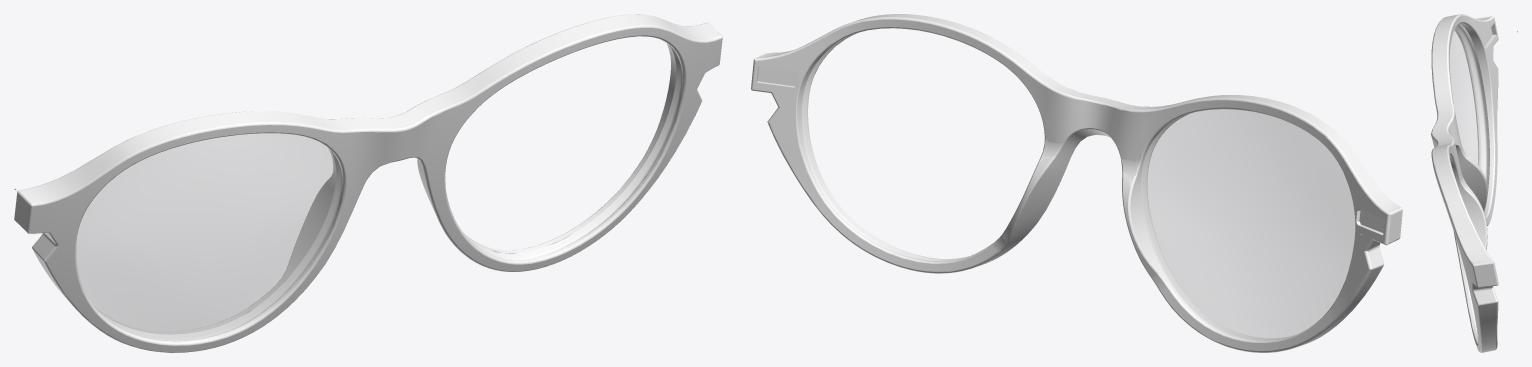
3 renders of one model, left to right at view 1: azimuth 30°, elevation 25°; view 2: azimuth 150°, elevation 25°; view 3: azimuth 270°, elevation 25°, orthographic. The views are drawn at different scales.
Visible parts, largest first — view 1: FRONTALE, LENTE_DX; view 2: LENTE_DX, FRONTALE; view 3: FRONTALE, LENTE_DX.
Part boxes in pixels (bbox=[...]): FRONTALE: bbox=[14, 14, 722, 352]; LENTE_DX: bbox=[76, 133, 341, 340]; LENTE_DX: bbox=[1141, 109, 1354, 340]; FRONTALE: bbox=[751, 14, 1402, 352]; FRONTALE: bbox=[1431, 14, 1498, 352]; LENTE_DX: bbox=[1450, 24, 1489, 210].
Bounding box in the file's own units: 1.31 × 0.4545 × 0.1952.
Materials: 3 (1 with a texture image).
